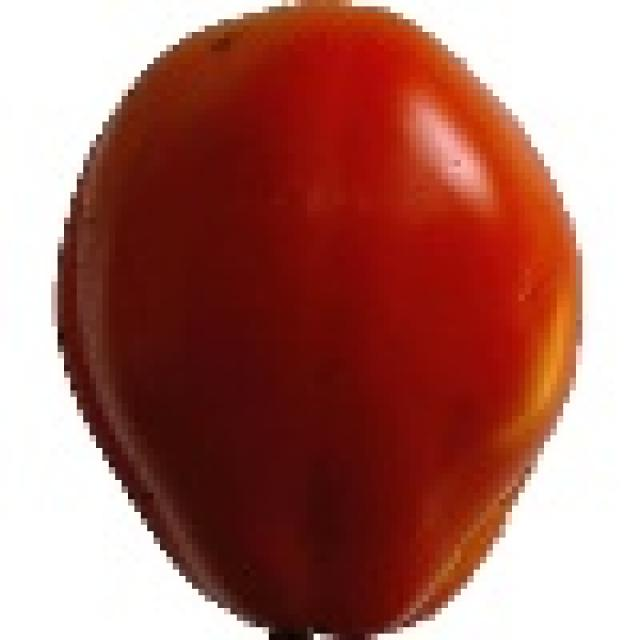tomato: (55, 7, 587, 640)
